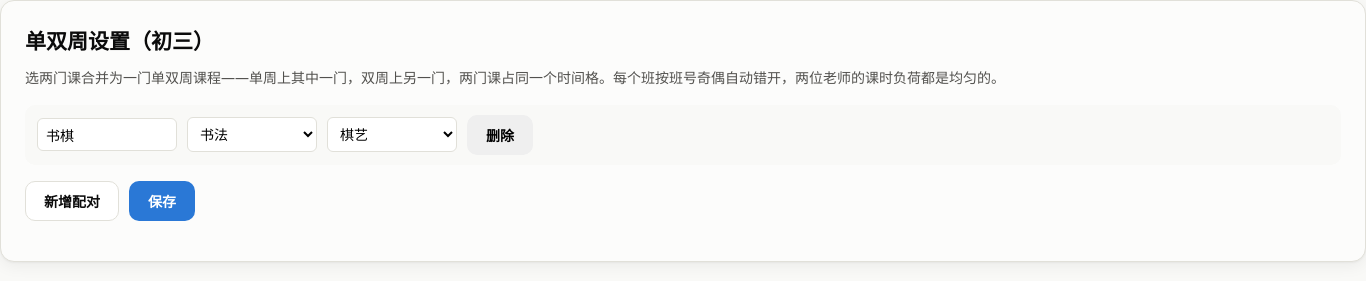
it: AlternatePairsSettings › removes a manual pair row before saving
Click the button with test id "remove-pair". click: [500, 135]
box: left=467, top=115, right=533, bottom=155
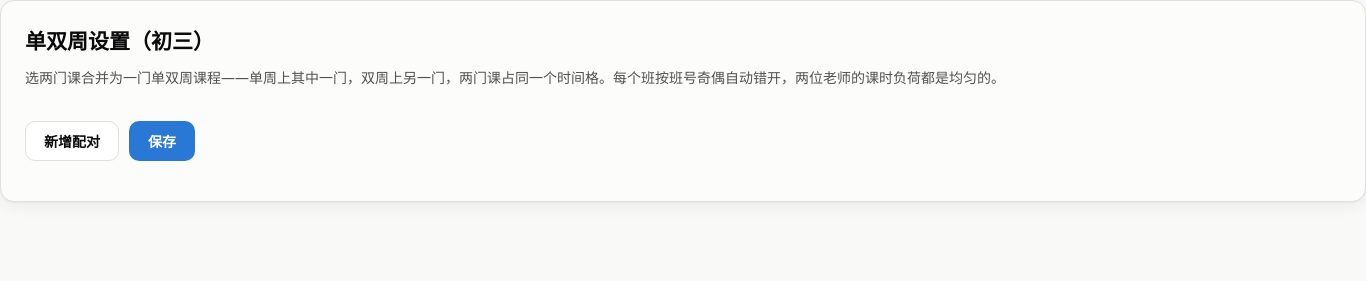
Result: no elements with test id "pair-row" are shown
